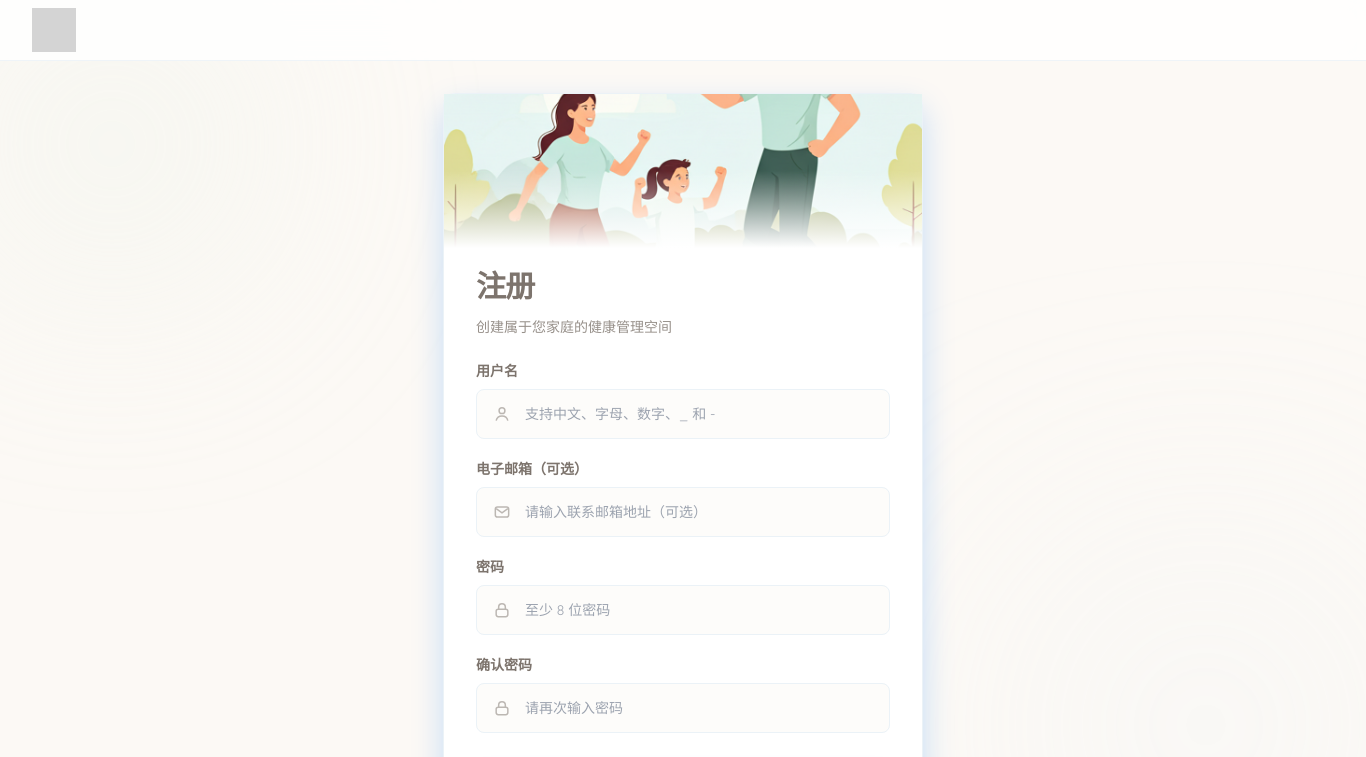
Test: auth pages › blocks invalid usernames before submit
Type "张 三" into the field labelled "用户名".
click(683, 414); type("张 三")  # box [476,389,890,439]
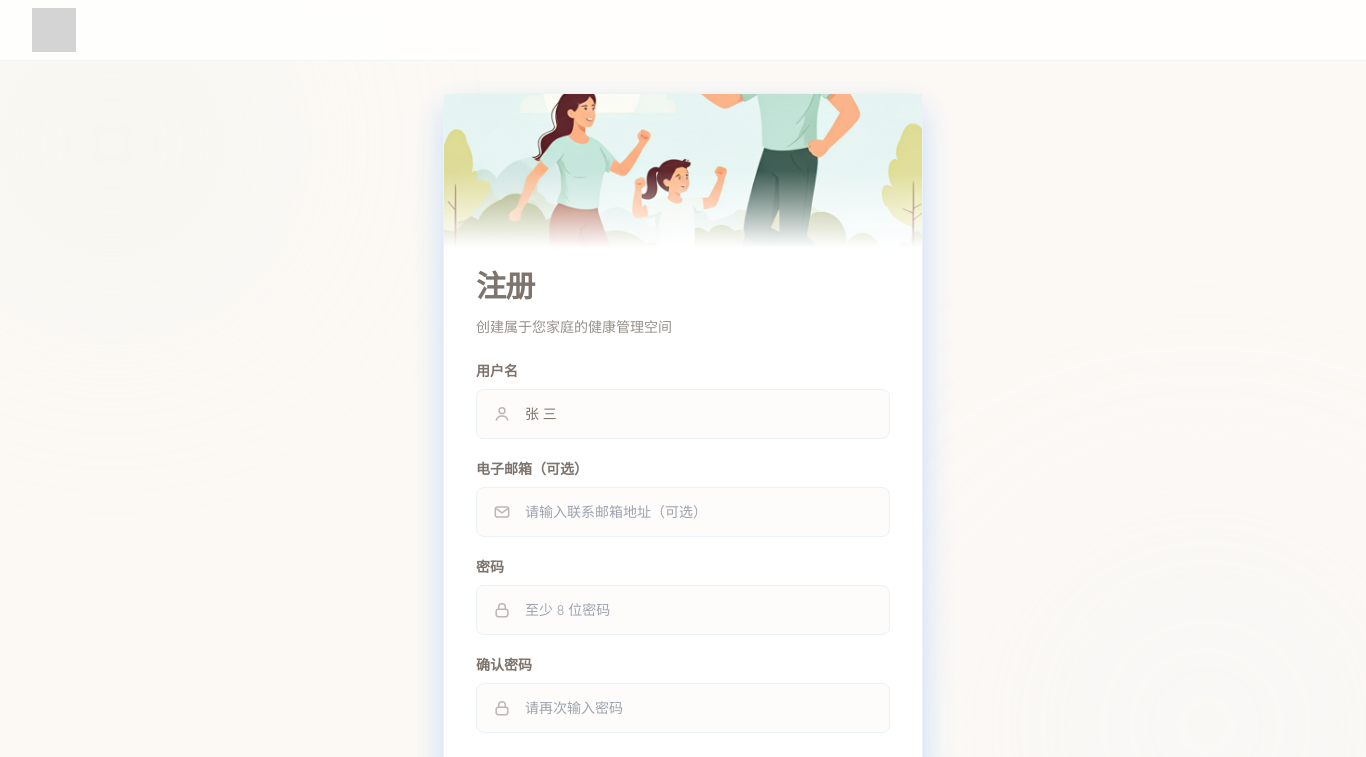
Type "Secret123!" into the password field labelled "密码".
click(683, 610); type("Secret123!")  # box [476,585,890,635]
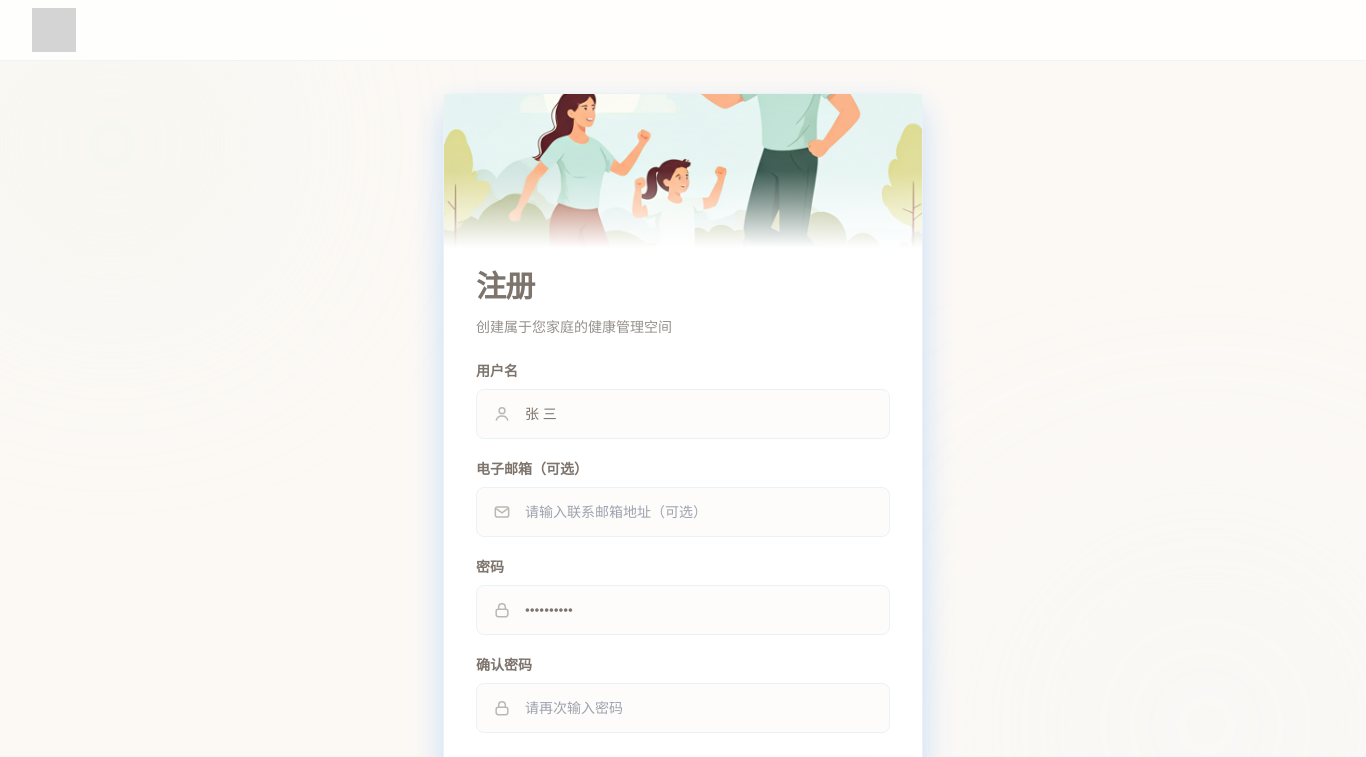
Type "Secret123!" into the password field labelled "确认密码".
click(683, 708); type("Secret123!")  # box [476,683,890,733]
(page scrolled)
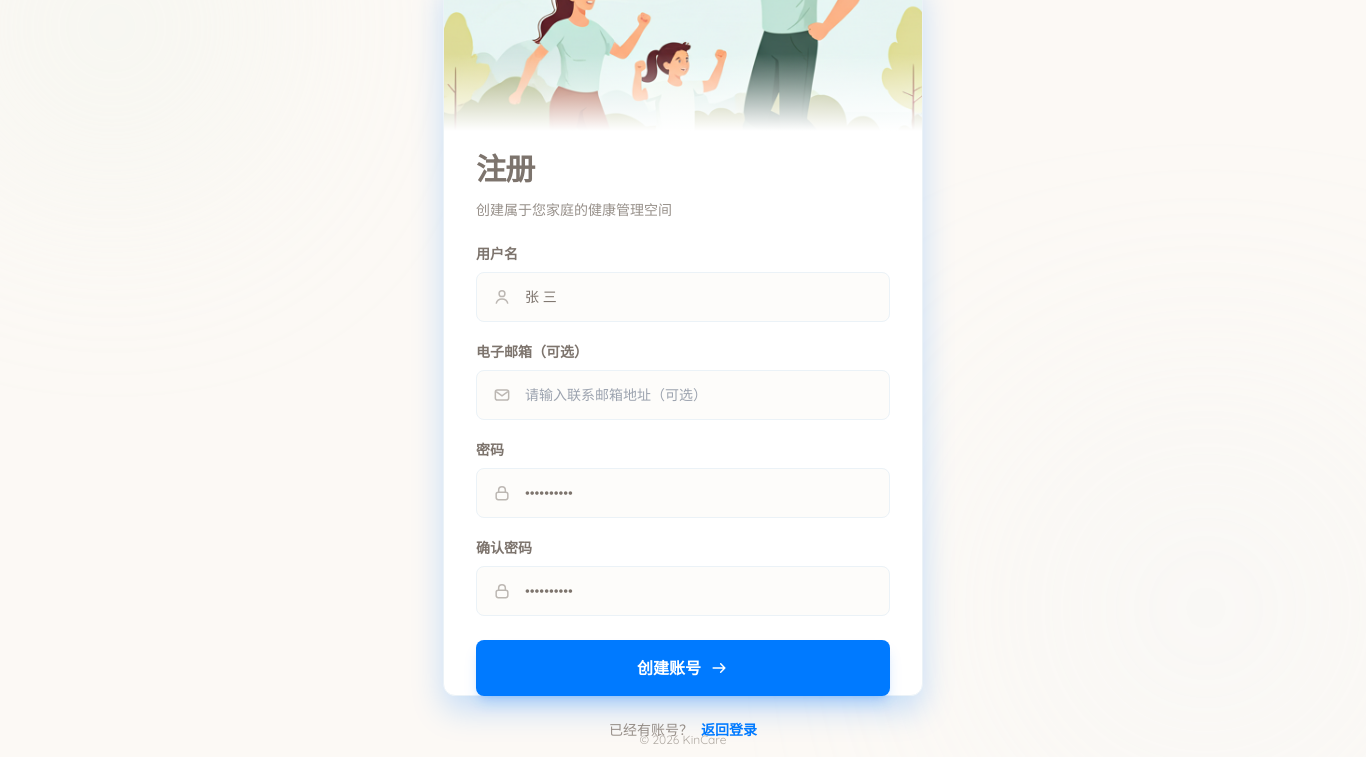
Click the button "创建账号".
click(683, 668)  # box [476,640,890,696]
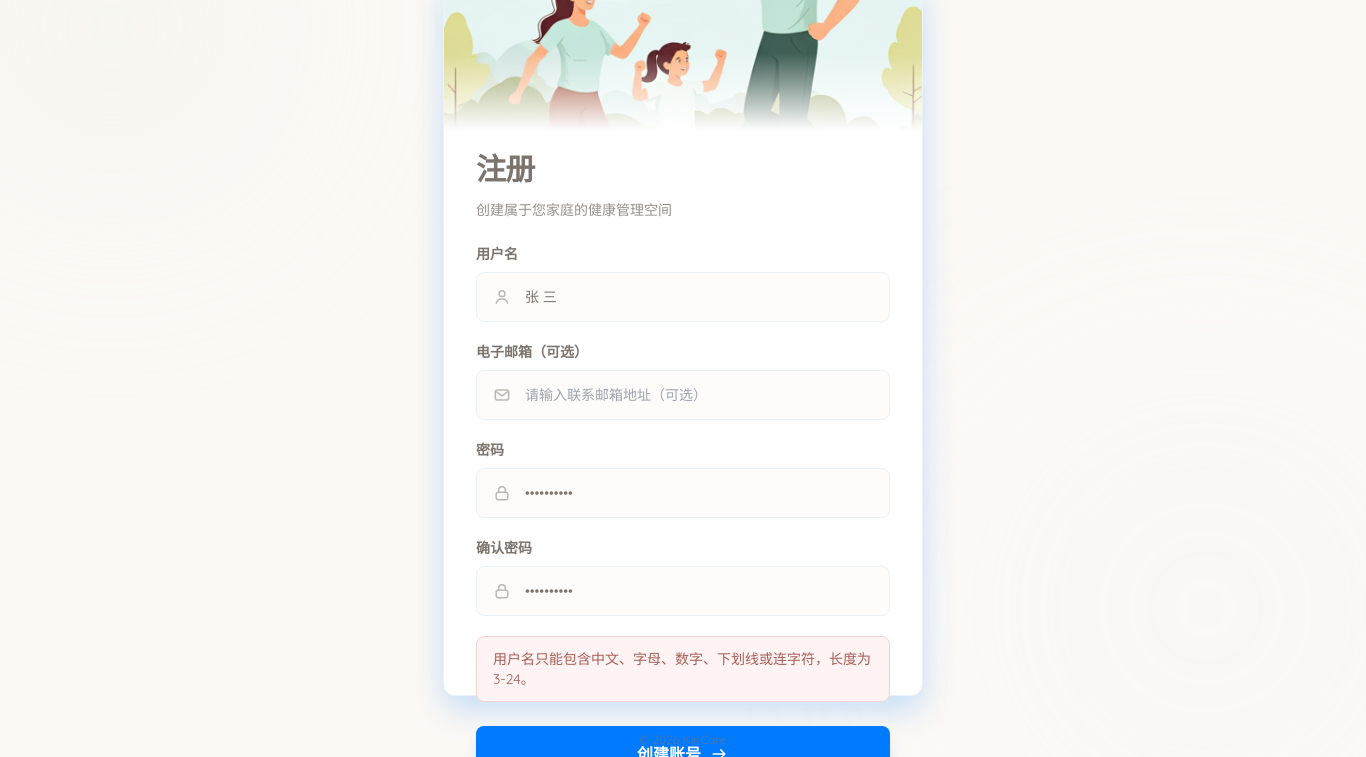
Now the text "用户名只能包含中文、字母、数字、下划线或连字符，长度为 3-24。" is shown, box [476,636,890,702]
